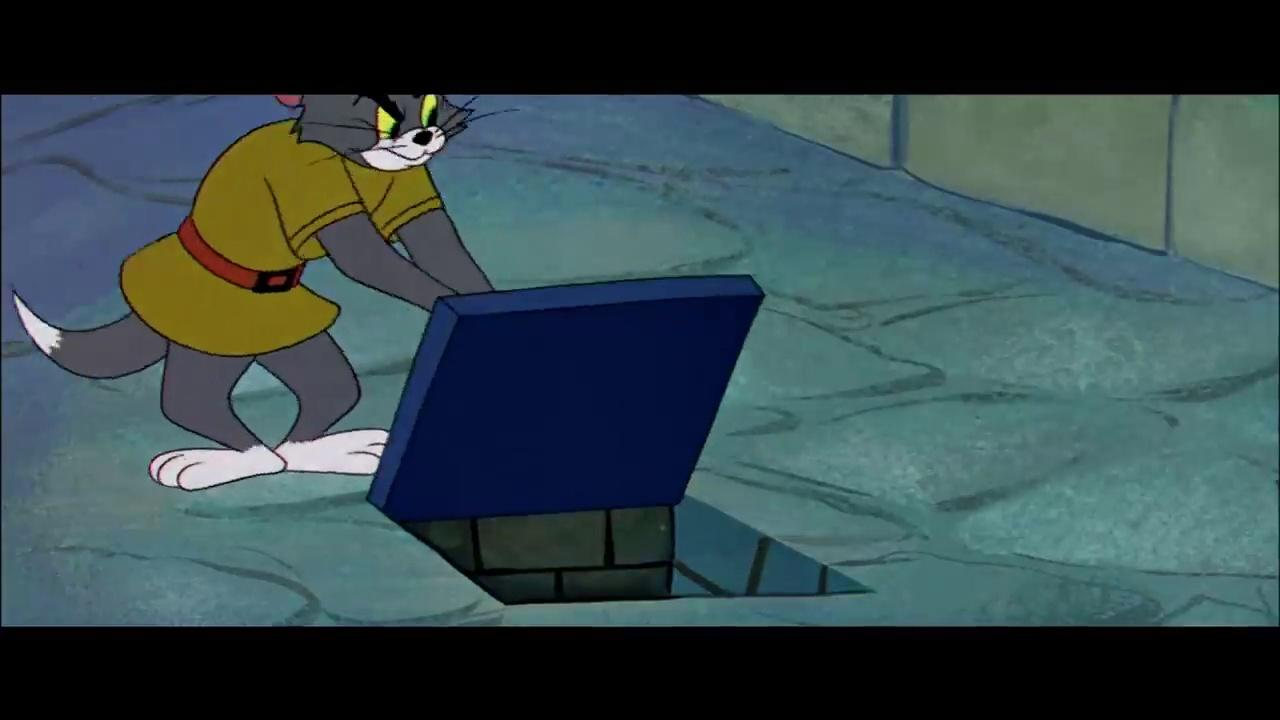Tom: (11, 93, 503, 495)
